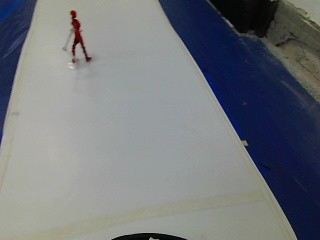pedestrian: (59, 4, 100, 70)
